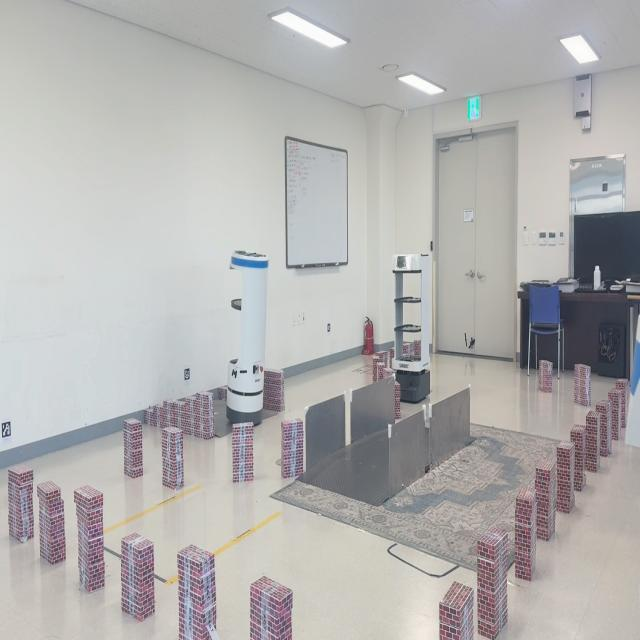sirbot: (228, 245, 265, 414)
